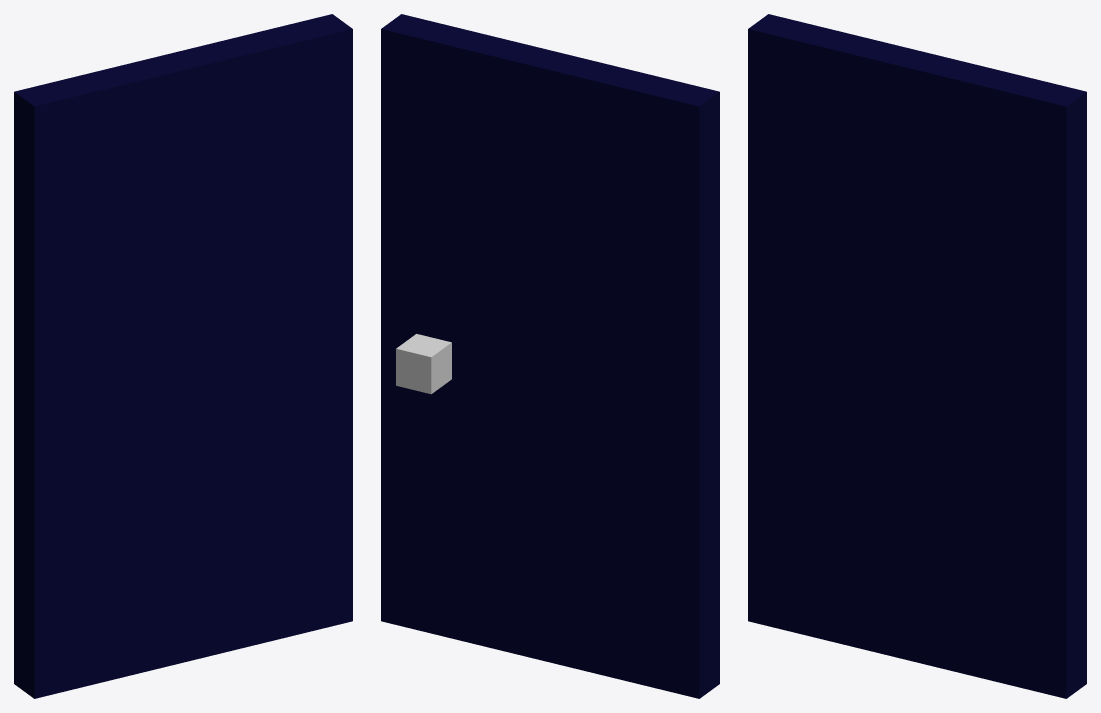
File: Bowling no details-7.obj
3 renders of one model, left to right at view 1: azimuth 30°, elevation 25°; view 2: azimuth 150°, elevation 25°; view 3: azimuth 330°, elevation 25°, orthographic.
Parts seen in each view (by area): view 1: Bowling no details-7; view 2: Bowling no details-7; view 3: Bowling no details-7.
Part boxes in pixels (x1=…): Bowling no details-7: x1=14, y1=14, x2=352, y2=698; Bowling no details-7: x1=381, y1=14, x2=719, y2=698; Bowling no details-7: x1=748, y1=14, x2=1086, y2=698.
Size of the model in its own units: 9 by 16 by 2.
1 material, 1 textured.
